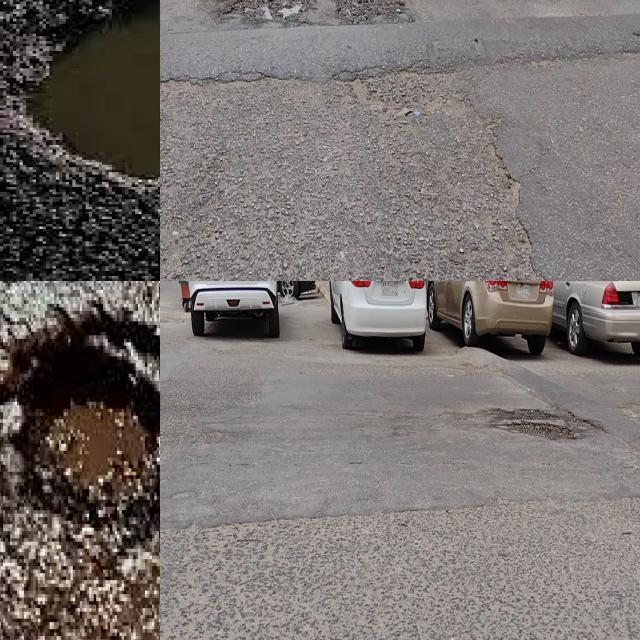Pothole: (0, 302, 160, 618), (486, 405, 587, 443), (220, 0, 314, 25), (334, 0, 404, 22)
